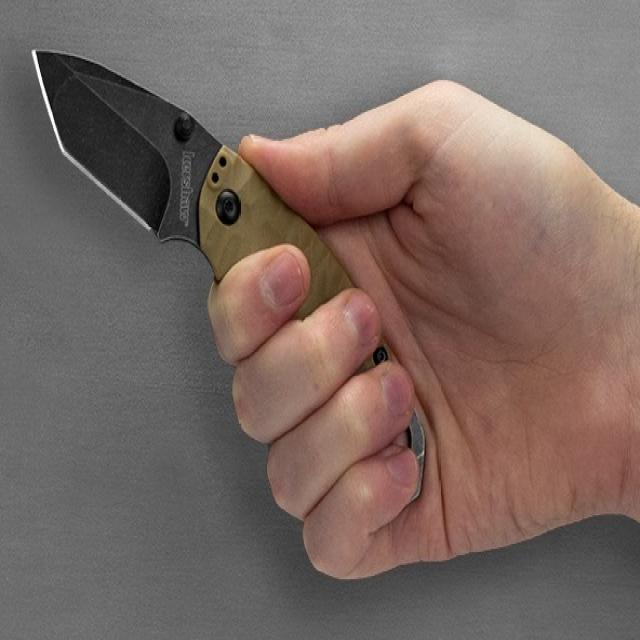knife: (27, 44, 271, 269)
